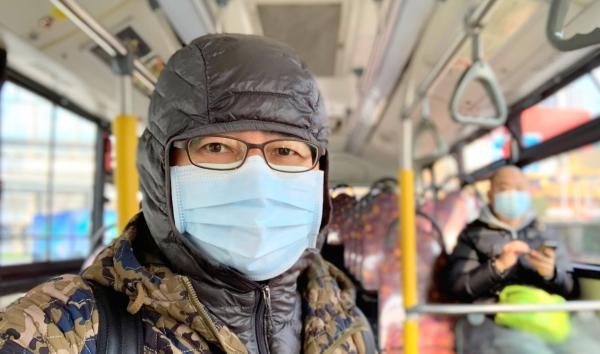mask: (165, 99, 327, 292), (492, 167, 530, 224)
